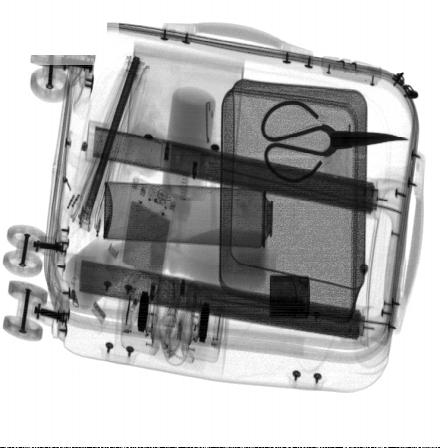Lighter: (270, 275, 310, 319)
Powerbank: (119, 176, 179, 284)
Scissors: (261, 98, 409, 184)
Sprayer: (104, 180, 296, 252)
